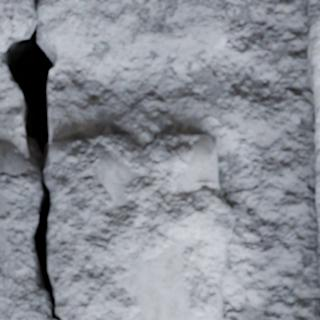brick: (308, 0, 319, 283)
broken_brick: (50, 133, 236, 319), (38, 0, 230, 58), (0, 138, 52, 319), (0, 0, 34, 49)
crack: (0, 0, 57, 319), (134, 141, 150, 160)
